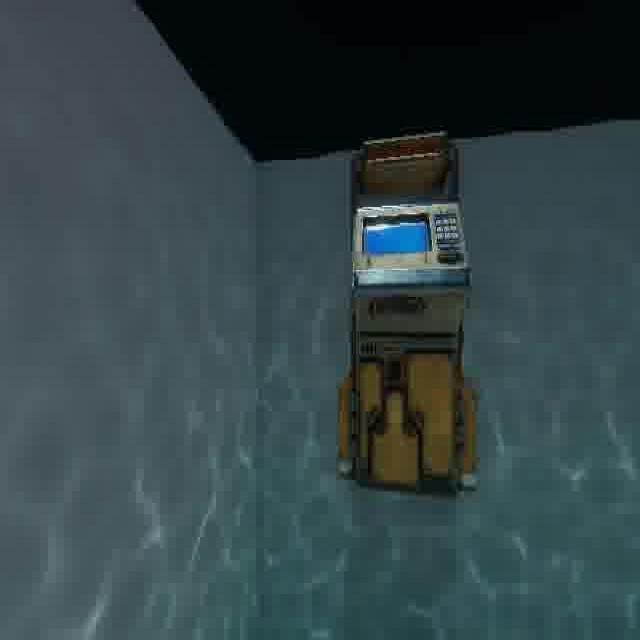Control Panel: (326, 128, 490, 506)
